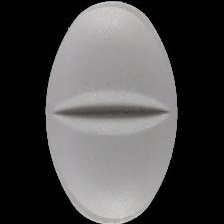68462-474: (0, 0, 224, 224)
